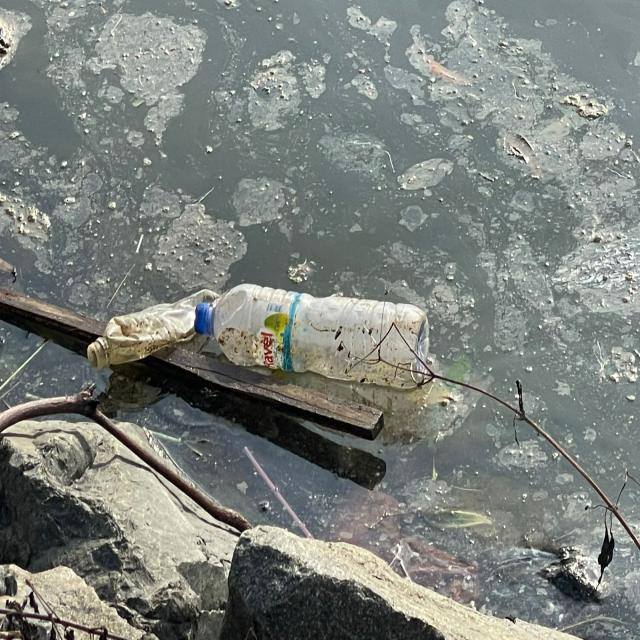Botol Plastik: (196, 280, 435, 390), (84, 291, 220, 380)
